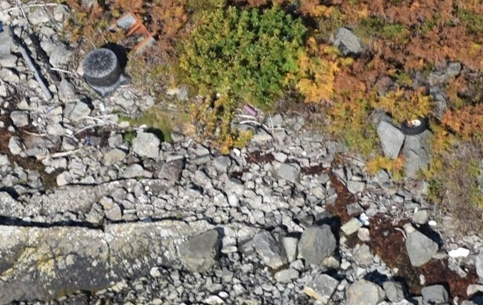straight_bar: (5, 30, 59, 103)
white_in_green: (60, 26, 148, 109), (385, 97, 443, 151), (431, 224, 483, 277)
